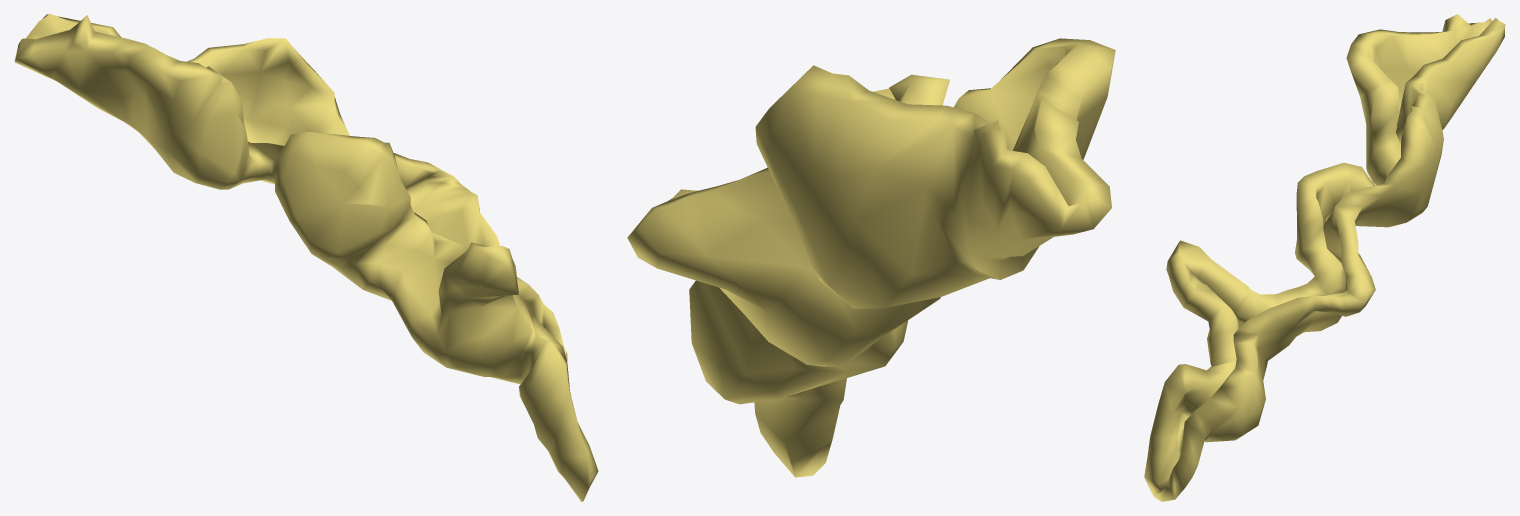
The model's file is central-sulcus-l.glb.
3 views of the same model, side by side, from view 1: azimuth 30°, elevation 25°; view 2: azimuth 150°, elevation 25°; view 3: azimuth 270°, elevation 25° (orthographic). The views are drawn at different scales.
Parts seen in each view (by area): view 1: Central sulcus.l; view 2: Central sulcus.l; view 3: Central sulcus.l.
Part boxes in pixels (bbox=[...]): Central sulcus.l: bbox=[14, 14, 598, 501]; Central sulcus.l: bbox=[627, 38, 1115, 477]; Central sulcus.l: bbox=[1144, 14, 1505, 501].
Size of the model in its own units: 0.0513 by 0.0532 by 0.0484.
